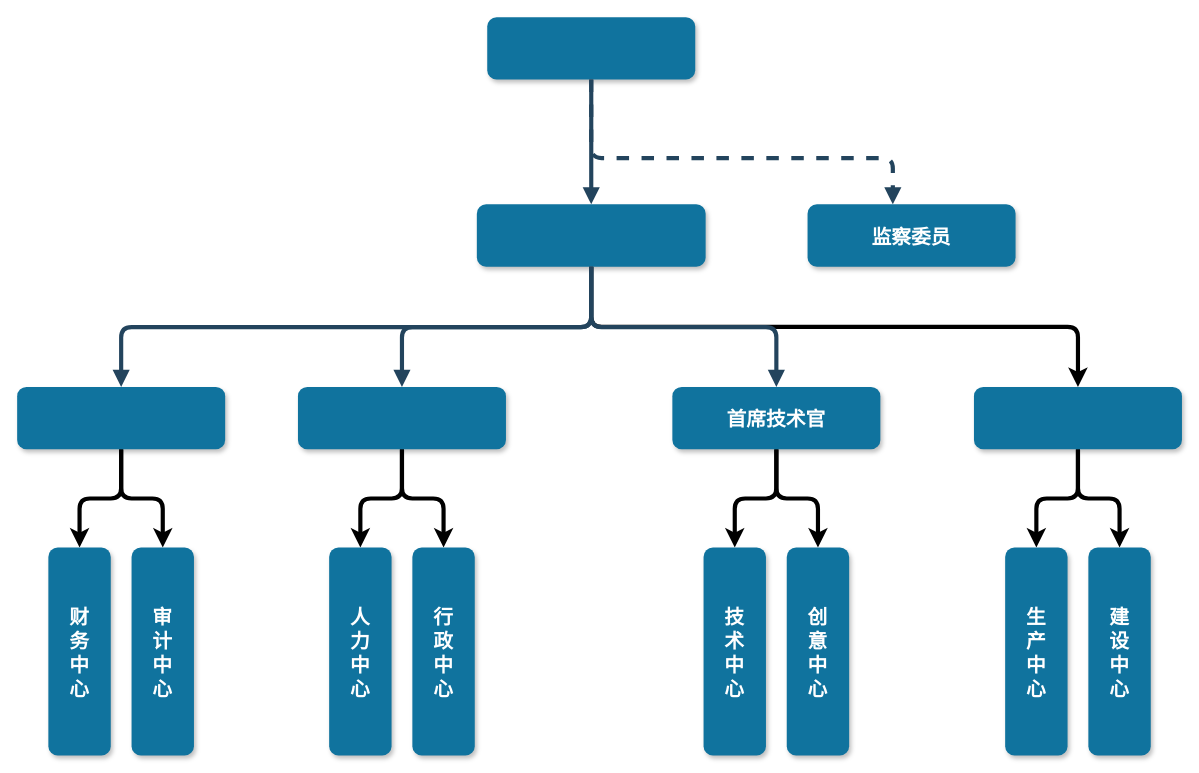
Image size: 1199x773. Some labels were removed from this diagram. The centre of each missing label's shape, as x and y in pixels:
"董事会" goes at point (592, 49).
"首席人力官" goes at point (402, 419).
"首席执行官" goes at point (591, 237).
"首席生产官" goes at point (1078, 419).
"首席财务官" goes at point (121, 419).
